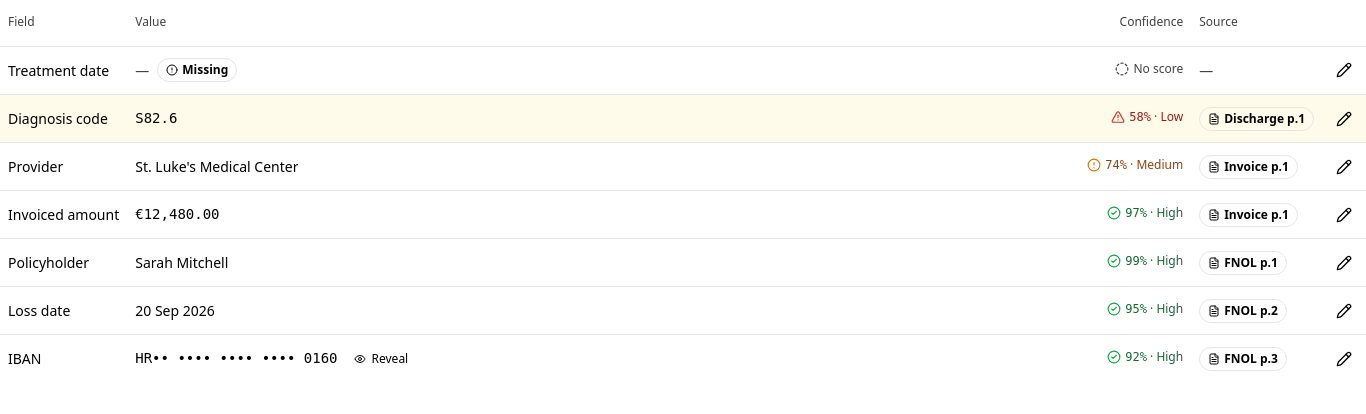
Scenario: ExtractedFieldsTable › corrects a value with Enter: new value, struck-through agent value, Corrected badge, focus back on the pencil
The width and height of the screenshot is (1366, 414).
Click the button named "Correct Provider" at (1344,166), box x1=1330 y1=152 x2=1358 y2=180
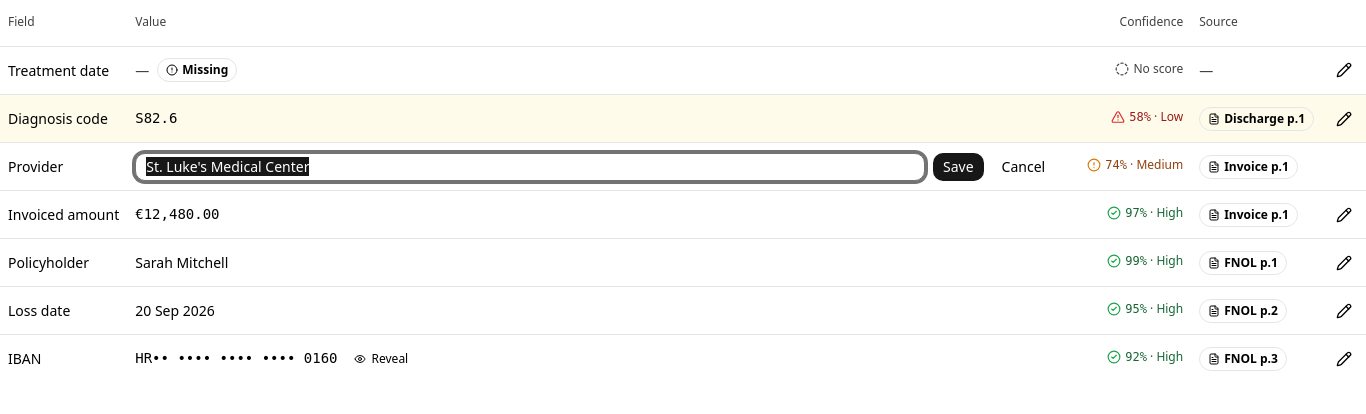
Replace the text in the field named "Edit Provider" with "Riverside Family Clinic" at (530,166), box x1=135 y1=152 x2=925 y2=180
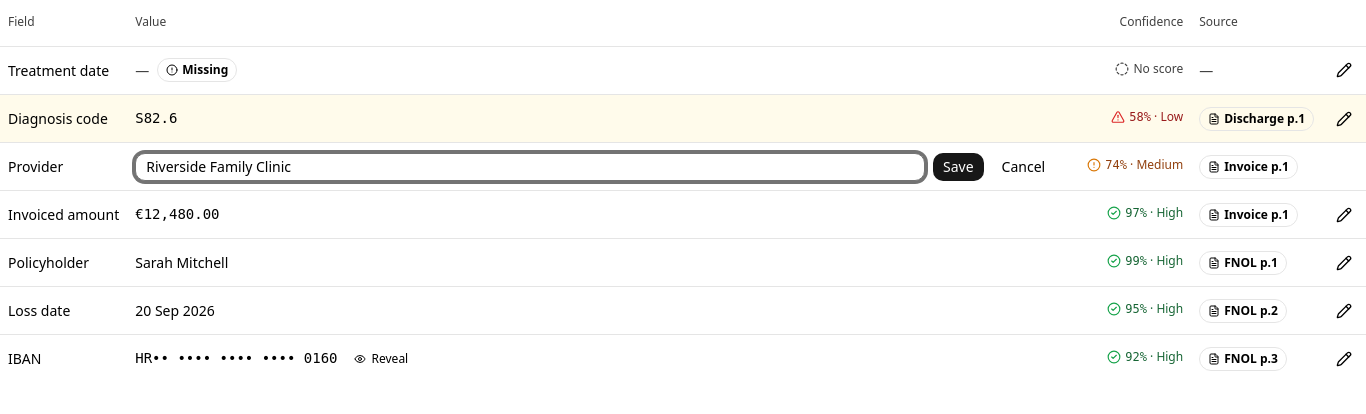
Press Enter
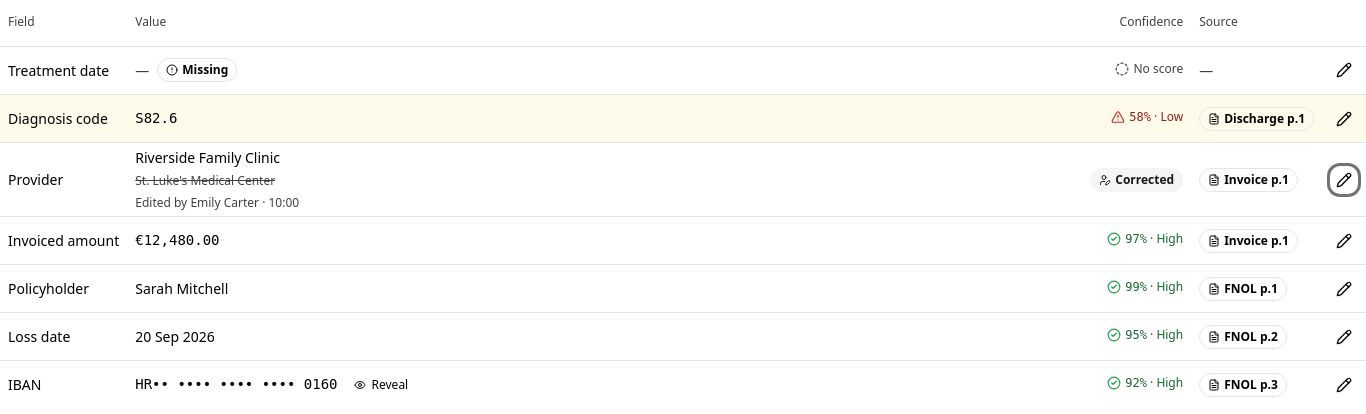
Expected: the text "Riverside Family Clinic" is shown, x1=135 y1=147 x2=280 y2=168
Expected: the text "Corrected" is shown, x1=1090 y1=168 x2=1183 y2=192
